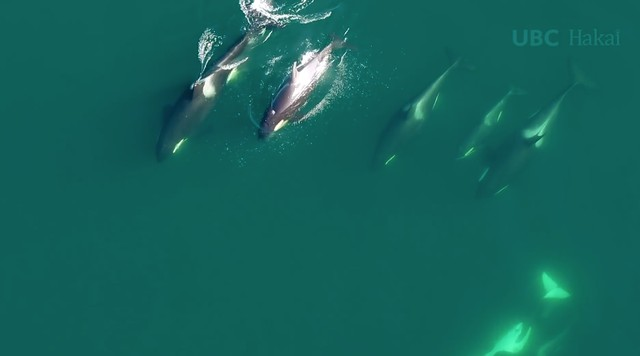whale: (143, 1, 297, 173), (468, 53, 608, 206), (363, 39, 482, 180), (253, 15, 358, 150), (451, 75, 531, 171)
